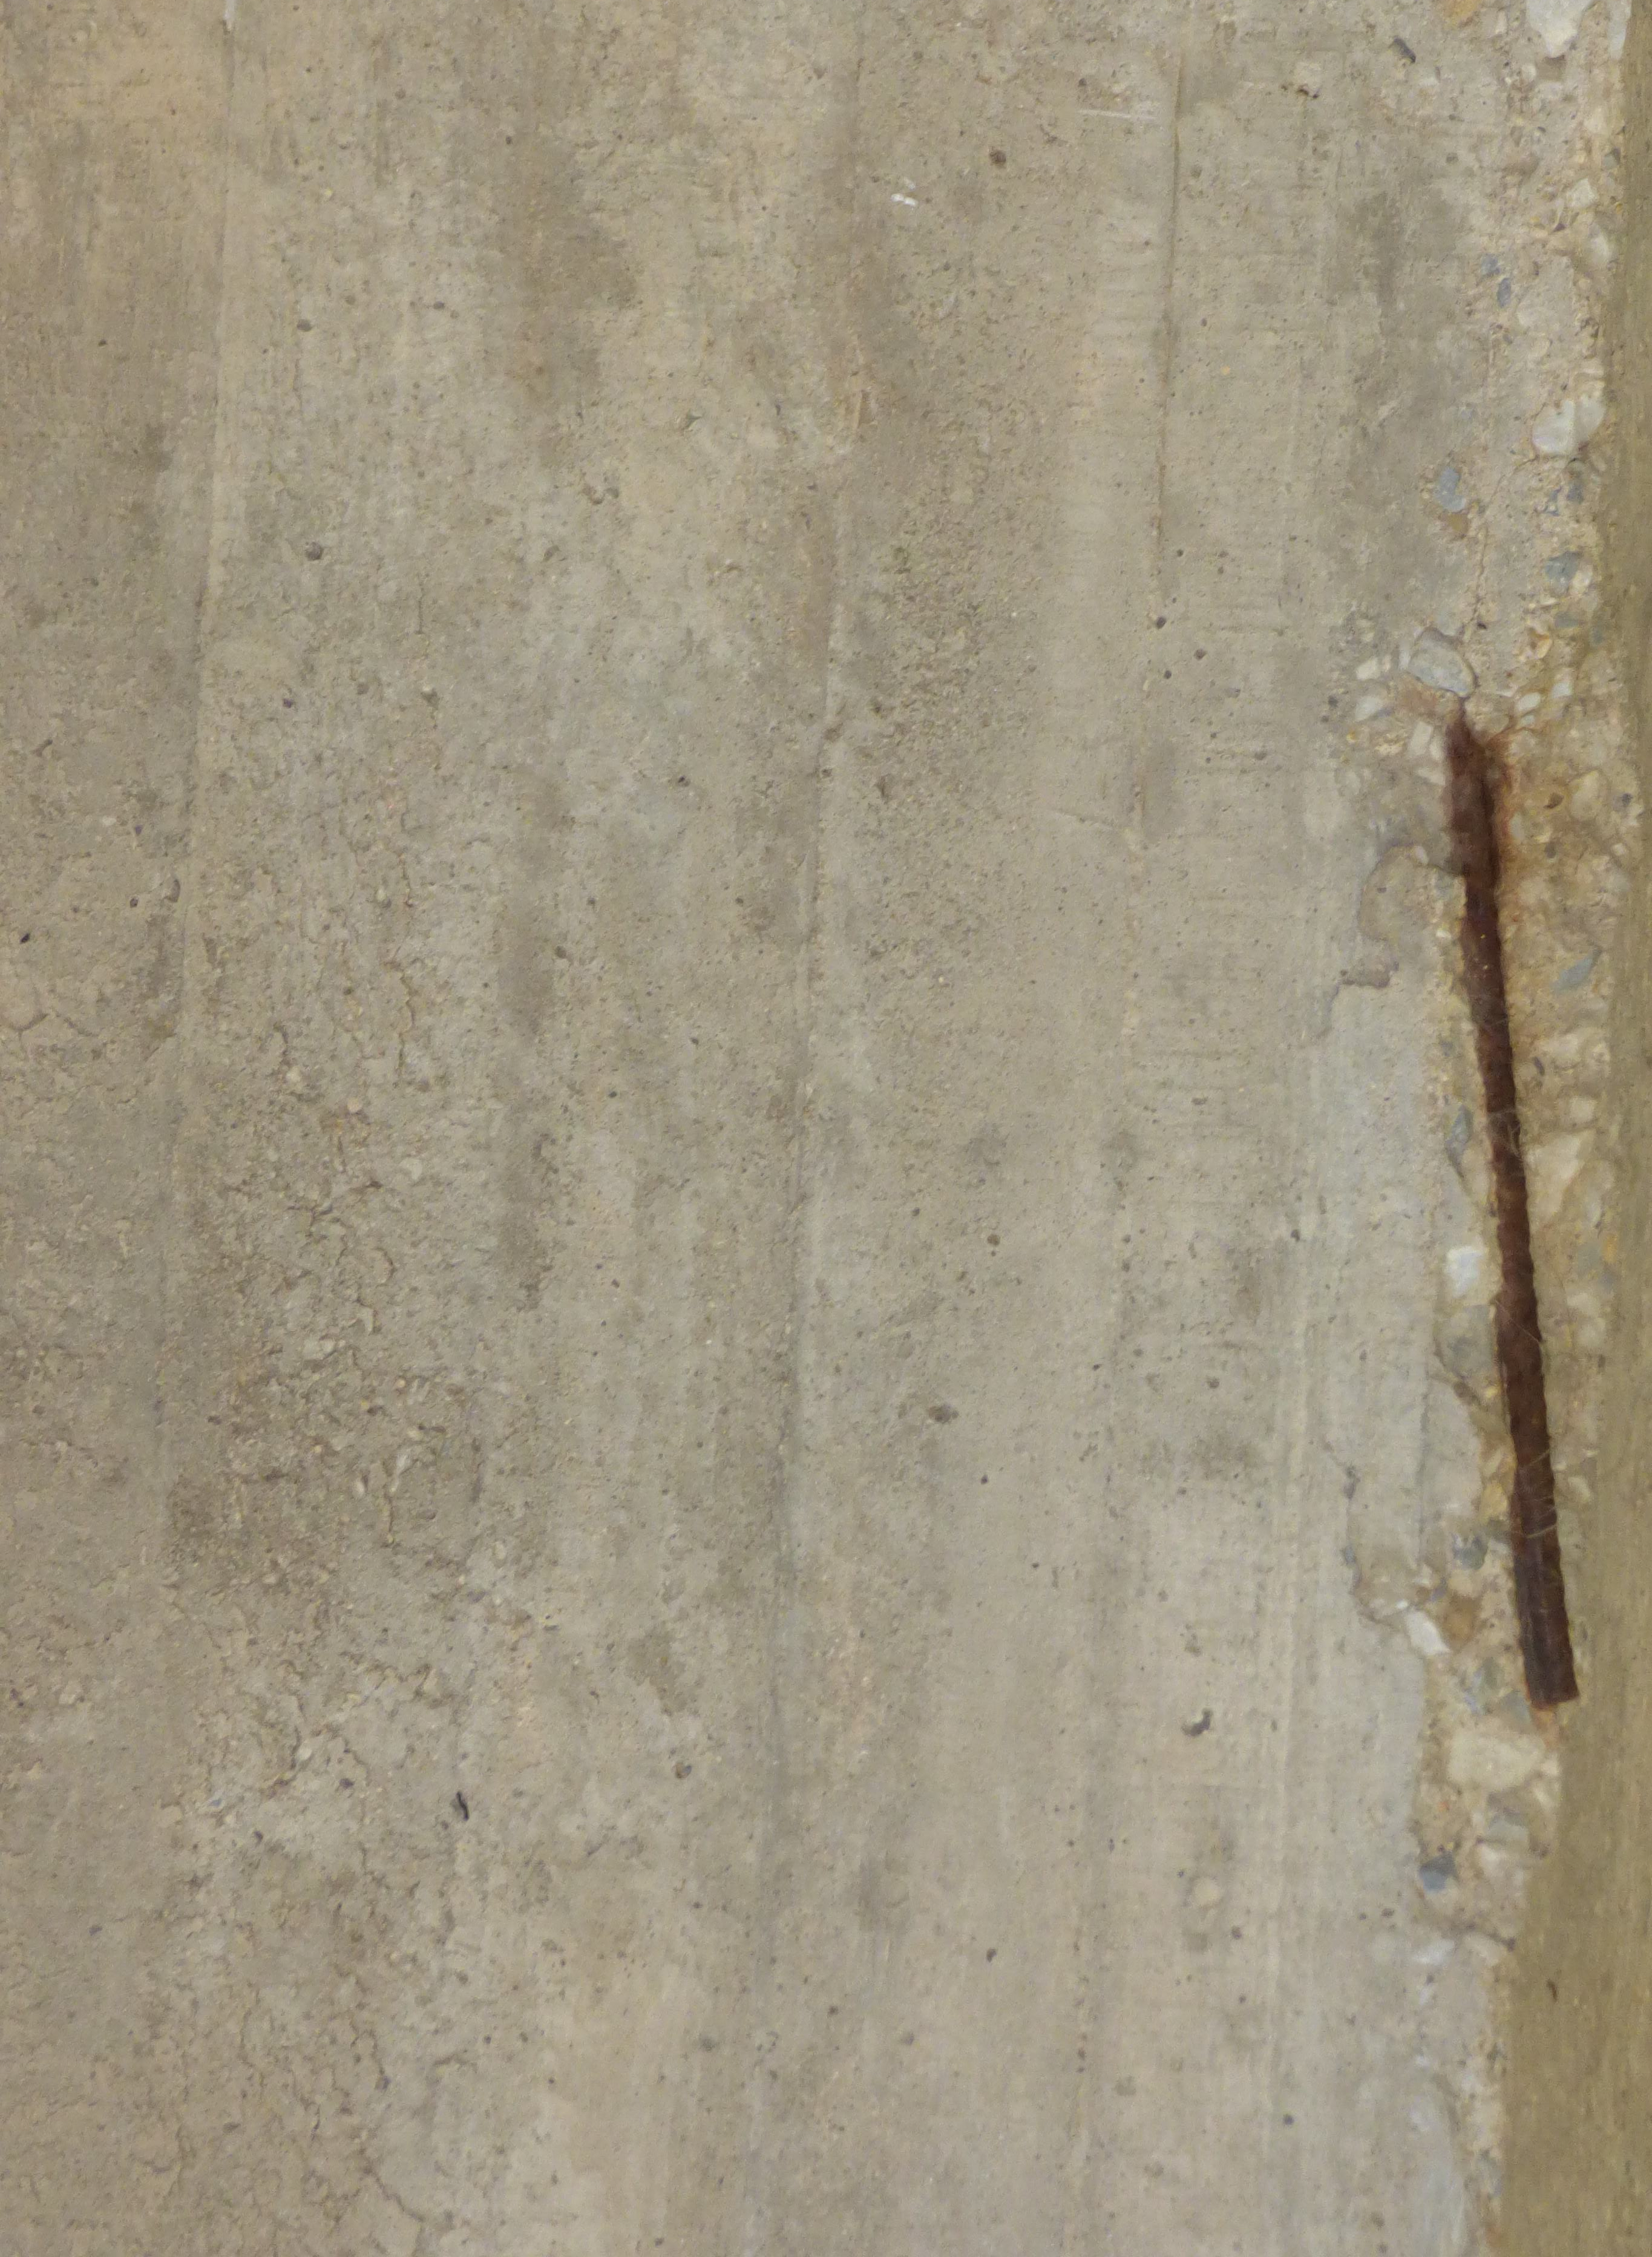Exposed reinforcement: (1442, 703, 1582, 1710)
Spalling: (1412, 454, 1648, 1957)
